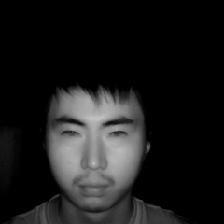sad: (35, 53, 144, 208)
